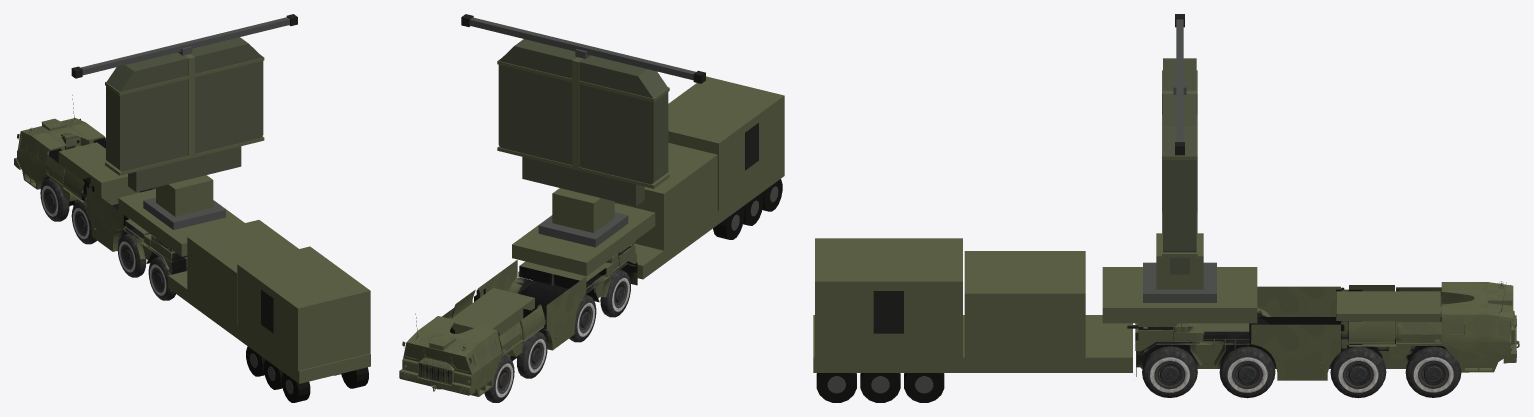
The model's file is radar_64n6e2.glb.
3 renders of one model, left to right at view 1: azimuth 30°, elevation 25°; view 2: azimuth 150°, elevation 25°; view 3: azimuth 270°, elevation 25°, orthographic. The views are drawn at different scales.
Visible parts, largest first — view 1: radar_64n6e2, antenna; view 2: radar_64n6e2, antenna; view 3: radar_64n6e2, antenna.
Boxes of the visible parts, x1=… form: radar_64n6e2: x1=14, y1=95, x2=370, y2=402; antenna: x1=71, y1=14, x2=297, y2=216; radar_64n6e2: x1=399, y1=76, x2=784, y2=402; antenna: x1=461, y1=14, x2=705, y2=232; radar_64n6e2: x1=813, y1=238, x2=1519, y2=402; antenna: x1=1156, y1=14, x2=1203, y2=289.
Size of the model in its own units: 9.3 by 9.9 by 21.
Materials: 9 (4 with a texture image).
